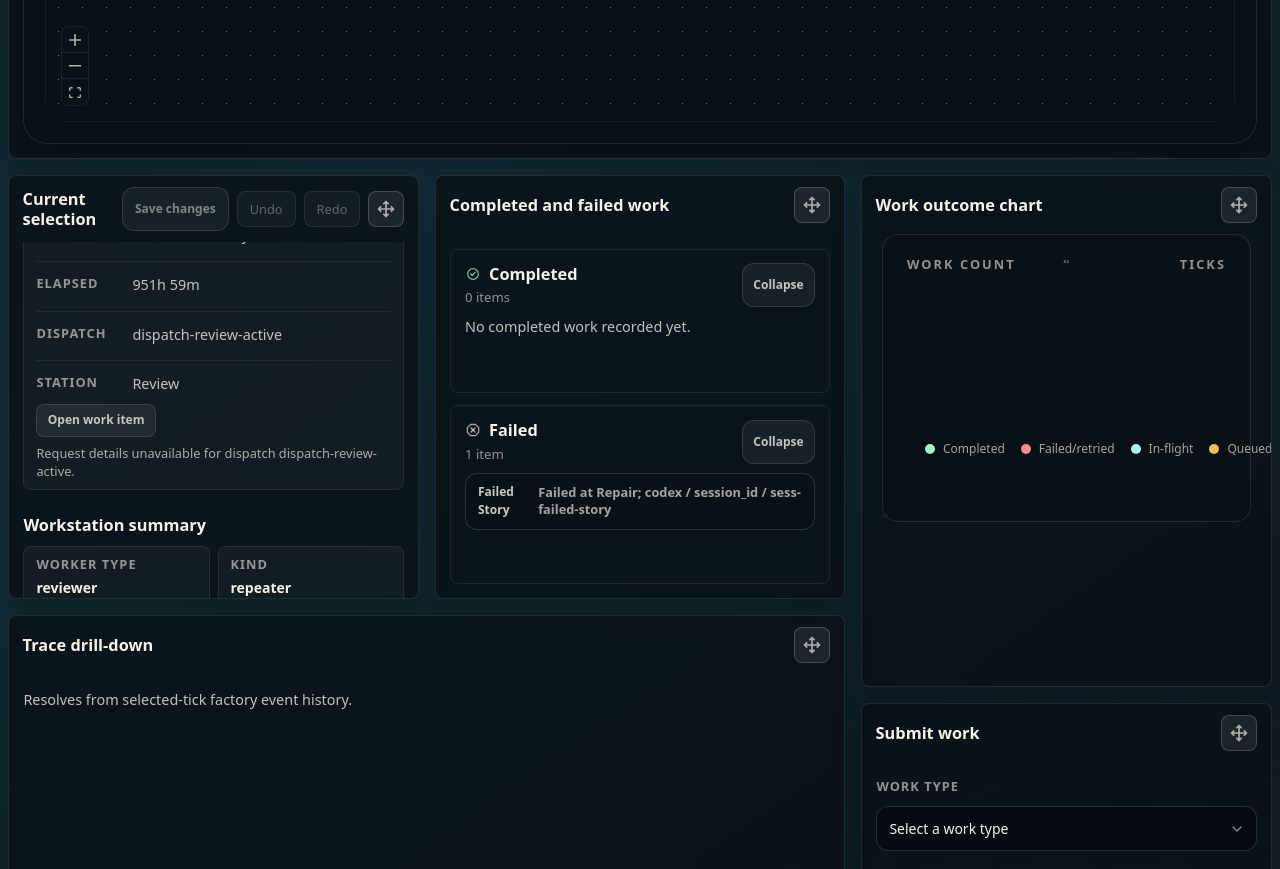
Test: App current selection › renders a trace drill-down for a selected work item
(page scrolled)
Expected: the text "dispatch-review-active" is shown, [132,324,282,344]
Click the button with aria-label "Active Story". click: (96, 420)
box: [36,404,156,437]
(page scrolled)
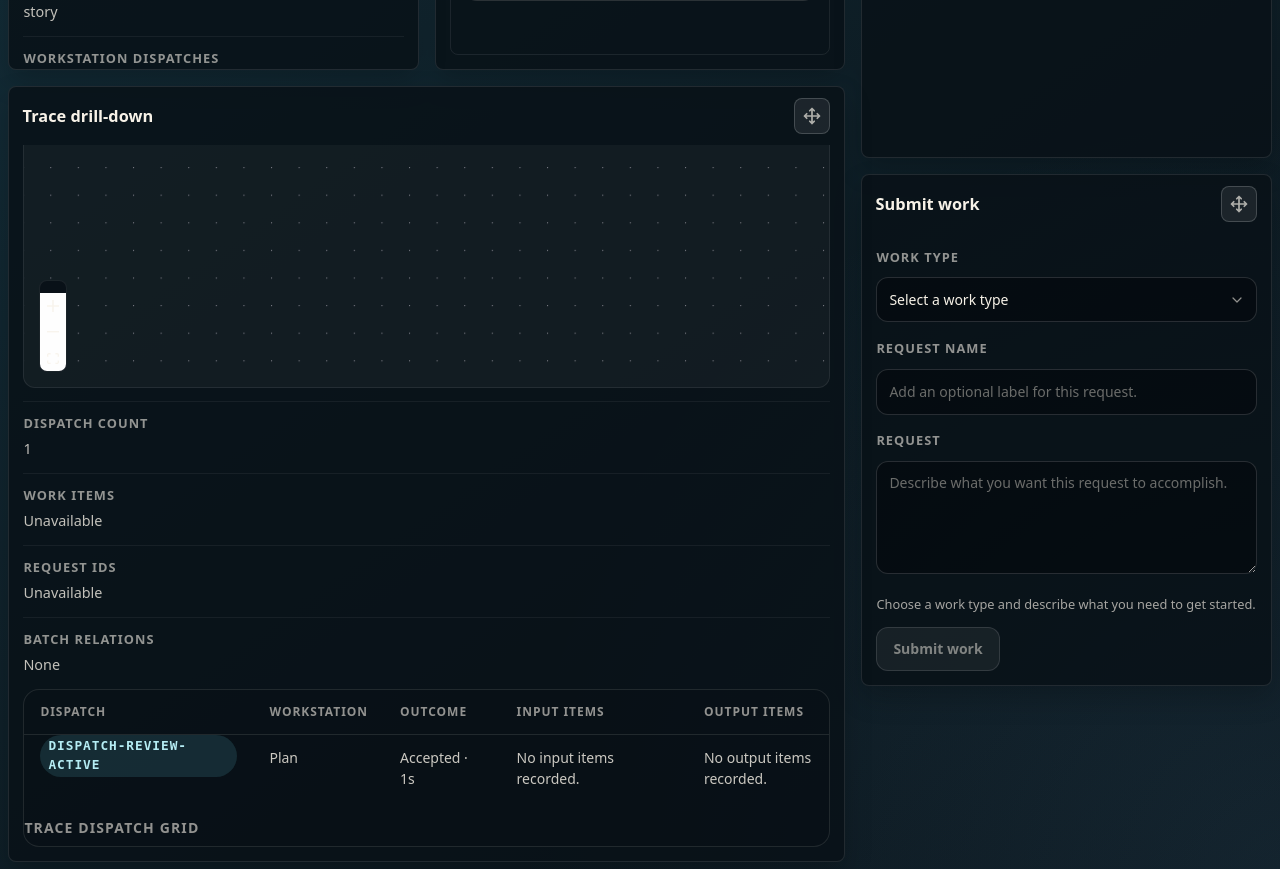
Expected: the element "Trace drill-down" is shown, [8,86,845,862]
Now the text "Trace dispatch grid" is shown, box [24,818,199,837]
Now the text "Accepted · 1s" is shown, box [384,734,501,802]
